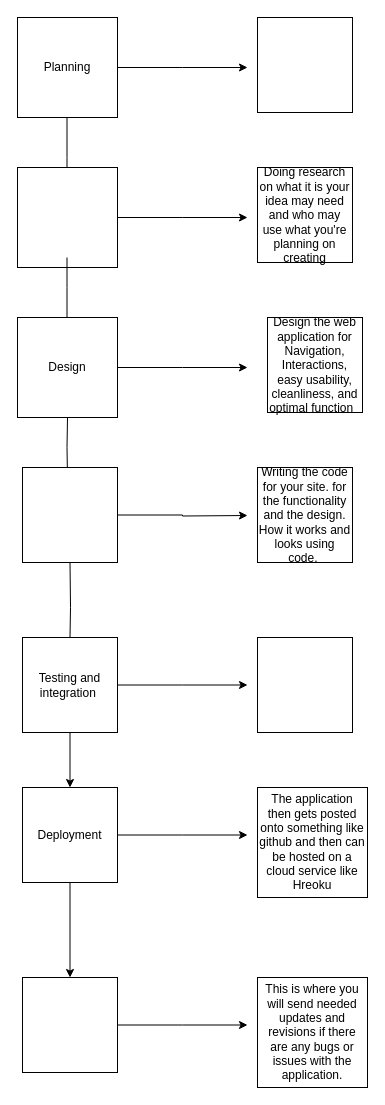
The diagram is 385 pixels wide and 1105 high, and some of its shapes have lost their labels. Each missing label, with the centre of its shape:
"An idea or thought and drawing out plans for what you want to do" belongs at (x=304, y=64).
"Analysis of requirements" belongs at (x=67, y=217).
"Implementation" belongs at (x=70, y=514).
"Maintain" belongs at (x=70, y=1024).
"Testing the application and making sure that features work as intended." belongs at (x=304, y=684).
